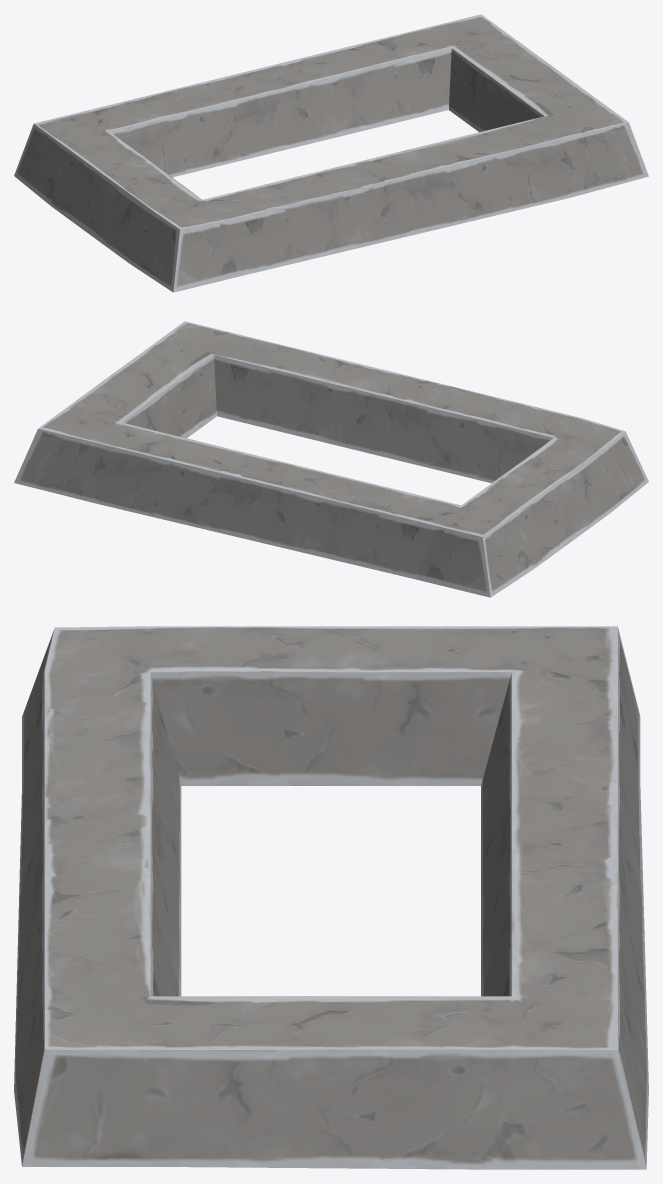
Rendered from graveFrame_01.FBX.
3 renders of one model, top to bottom at view 1: azimuth 30°, elevation 25°; view 2: azimuth 150°, elevation 25°; view 3: azimuth 270°, elevation 25°, orthographic. The views are drawn at different scales.
Parts seen in each view (by area): view 1: Box01; view 2: Box01; view 3: Box01.
Boxes of the visible parts, box(x1,y1,x2,y2) form: Box01: box(14, 14, 648, 292); Box01: box(14, 321, 648, 597); Box01: box(14, 626, 648, 1169).
Bounding box in the file's own units: 96.24 × 10.19 × 56.64.
